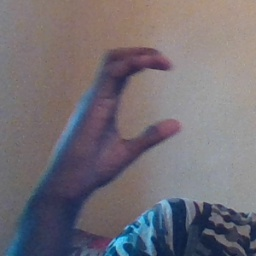C: (77, 41, 191, 162)
